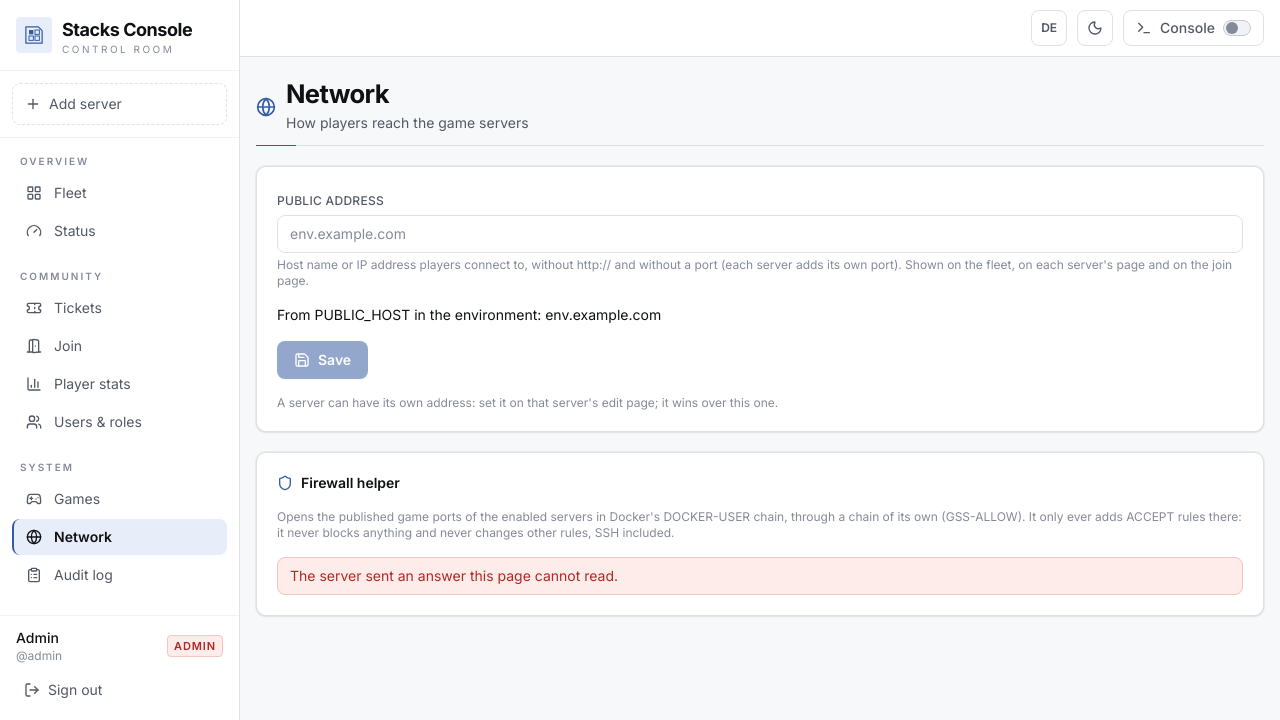
Scenario: Settings → Network › shows the backend's reason for an address it refuses
Type "http://x" into the field labelled "Public address".
click(760, 234); type("http://x")  # box [277,215,1243,253]
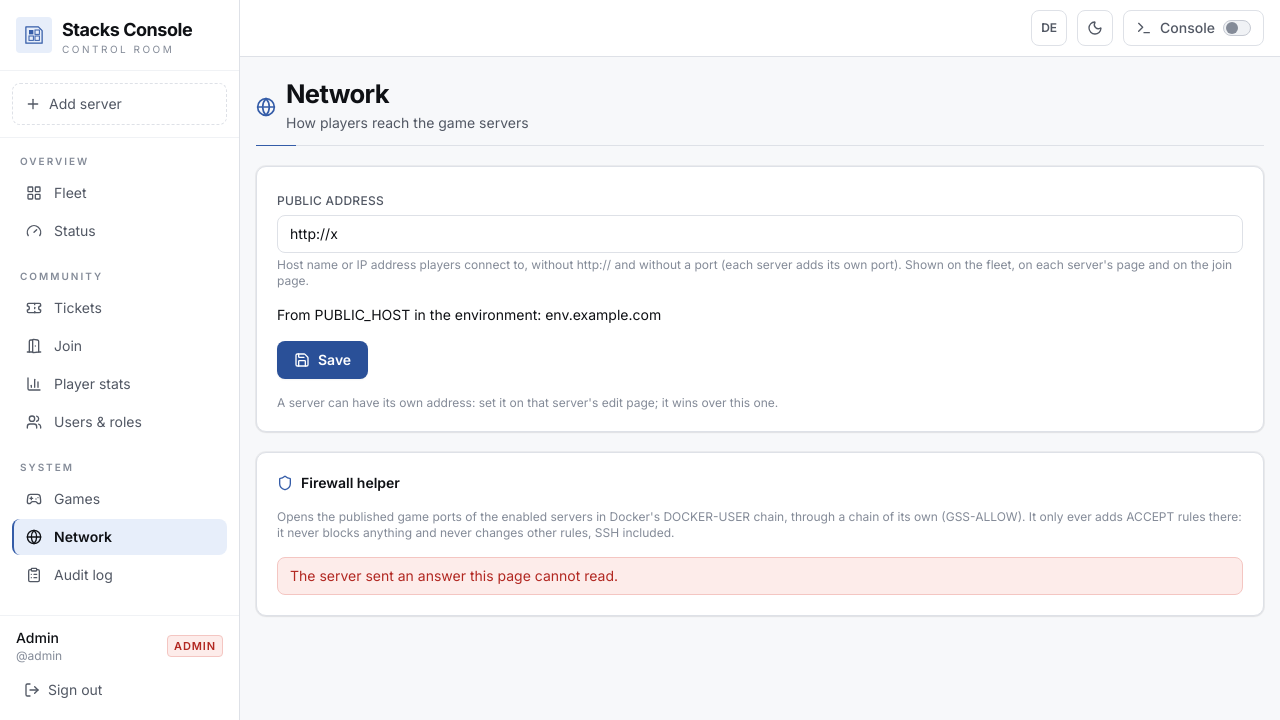
Click the button "Save".
click(323, 360)  # box [277,341,368,379]
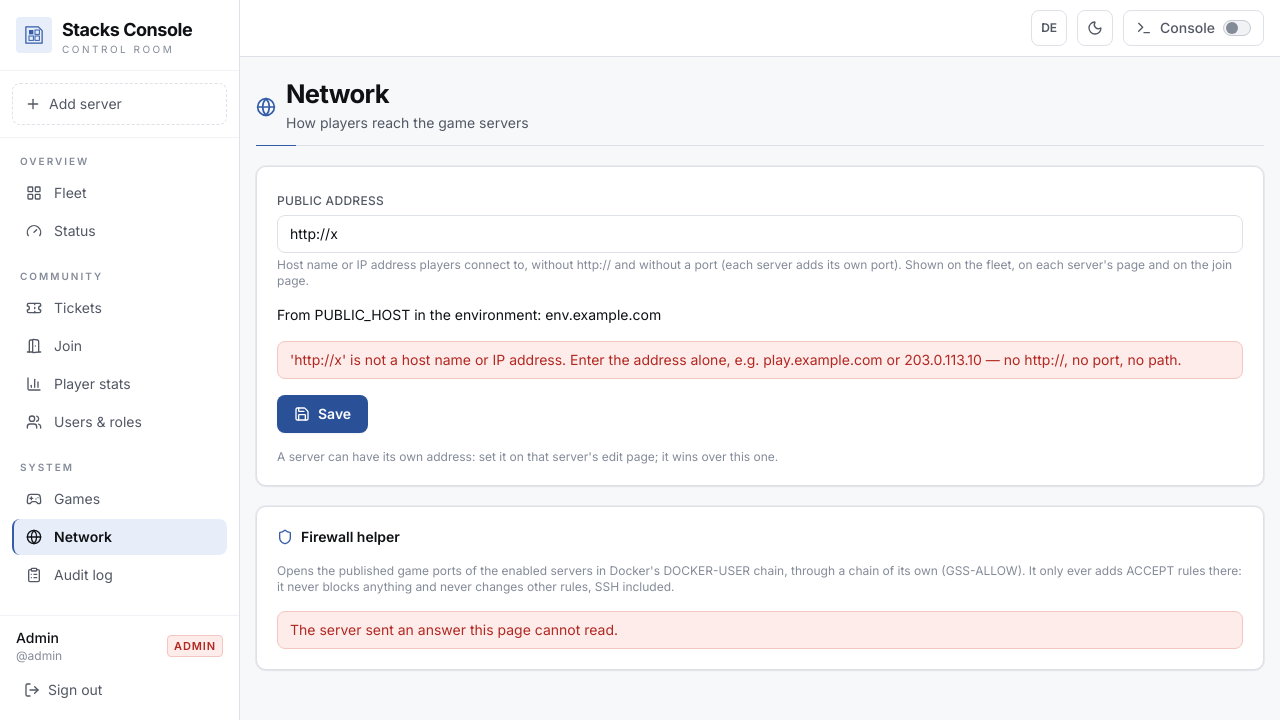
Now the text "'http://x' is not a host name or IP address" is shown, box [290,351,1182,368]
